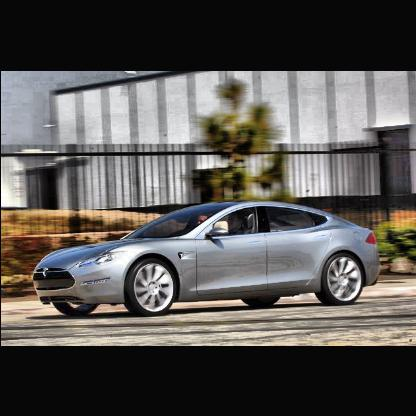Tesla Model S Sedan 2012: (30, 200, 383, 318)
